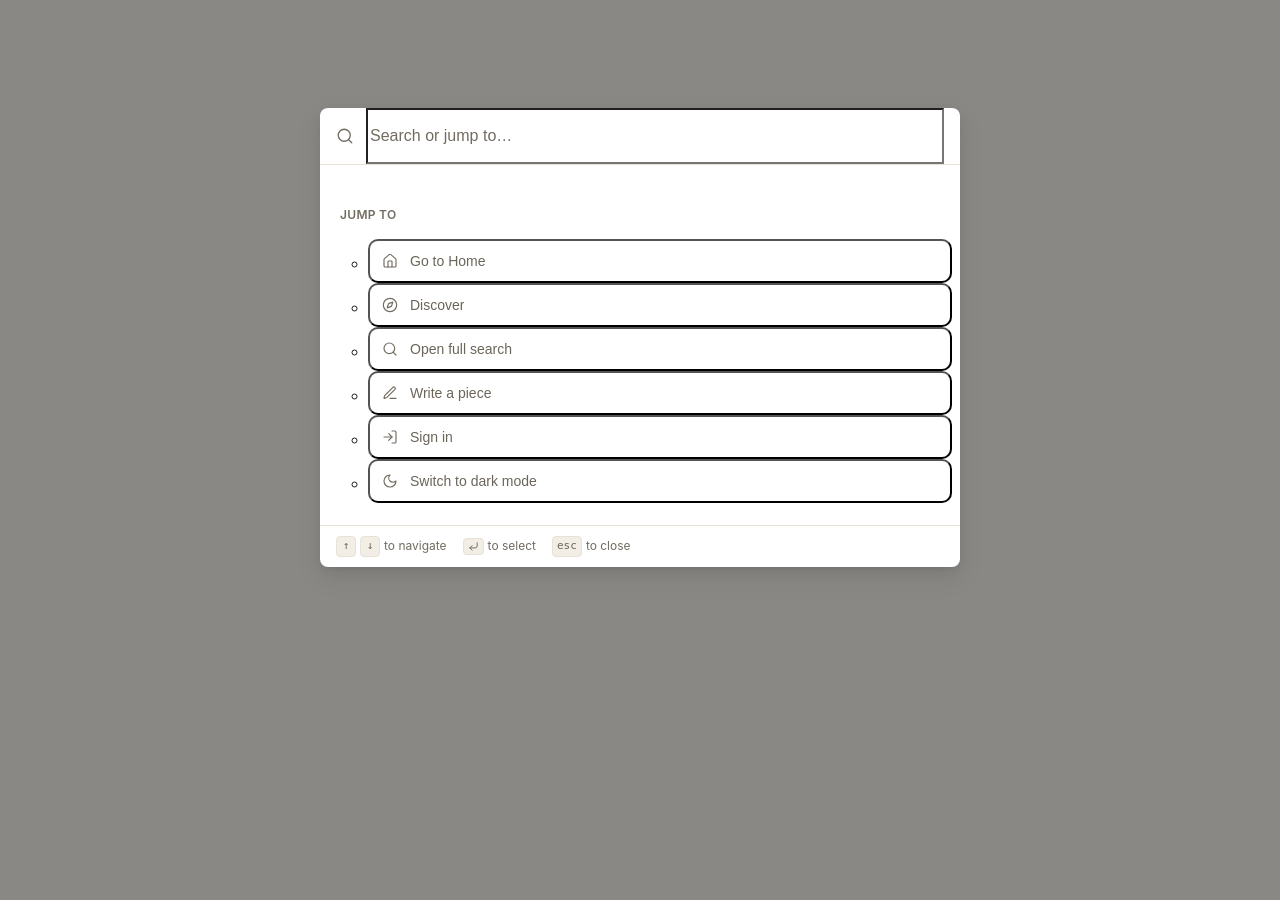
CommandPalette › shows a "search everything" action and instant suggestions while typing
The width and height of the screenshot is (1280, 900).
Type "meera" into the dropdown.
click(655, 136); type("meera")  # box left=366, top=108, right=944, bottom=164
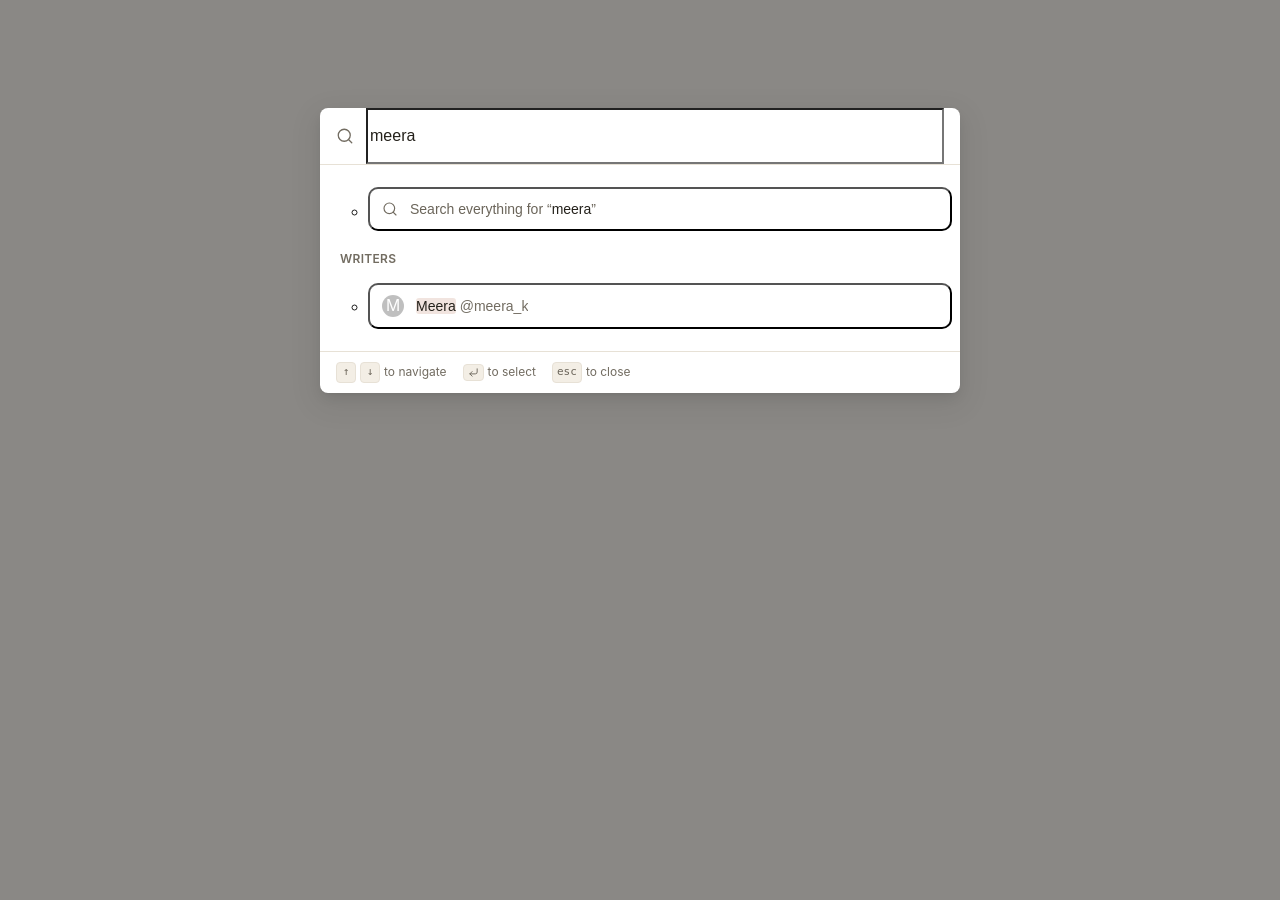
Result: the text "@meera_k" is shown at left=460, top=298, right=528, bottom=314
Result: the option "Search everything for “meera”" is shown at left=368, top=187, right=952, bottom=231
